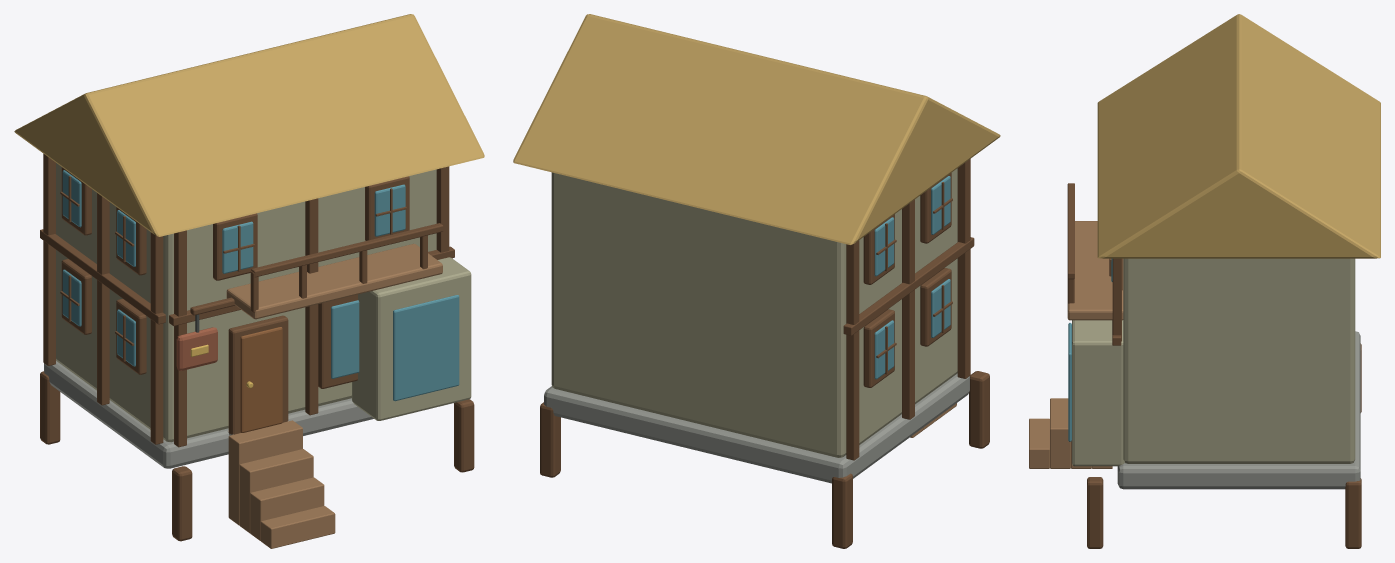
File: wetland-merchant-1.glb
3 renders of one model, left to right at view 1: azimuth 30°, elevation 25°; view 2: azimuth 150°, elevation 25°; view 3: azimuth 270°, elevation 25°, orthographic. The views are drawn at different scales.
Visible parts, largest first — view 1: Golden thatch, Weathered planks, Dark beams, Aged oak, Blue glass, Foundation stone, Door oak, Painted sign; view 2: Weathered planks, Golden thatch, Dark beams, Foundation stone, Blue glass; view 3: Golden thatch, Weathered planks, Foundation stone, Aged oak, Dark beams, Blue glass.
Part boxes in pixels (x1,y1,x2,y2): Golden thatch: [14, 14, 484, 236]; Weathered planks: [56, 163, 471, 442]; Dark beams: [40, 154, 474, 541]; Aged oak: [226, 243, 442, 548]; Blue glass: [62, 170, 459, 401]; Foundation stone: [44, 361, 373, 468]; Door oak: [240, 327, 282, 432]; Painted sign: [176, 327, 217, 370]; Weathered planks: [551, 168, 957, 457]; Golden thatch: [513, 14, 1000, 244]; Dark beams: [540, 159, 989, 548]; Foundation stone: [544, 373, 969, 483]; Blue glass: [874, 176, 950, 379]; Golden thatch: [1097, 14, 1380, 258]; Weathered planks: [1072, 258, 1355, 466]; Foundation stone: [1117, 331, 1360, 489]; Aged oak: [1029, 221, 1123, 468]; Dark beams: [1067, 183, 1361, 548]; Blue glass: [1068, 258, 1112, 441].
Size of the model in its own units: 4.1 by 4.7 by 3.87.
